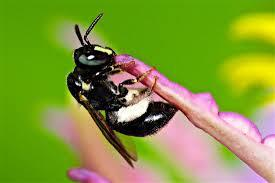Braunsapis: (66, 8, 186, 174)
